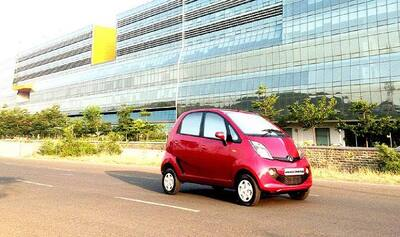Nano: (160, 108, 313, 207)
